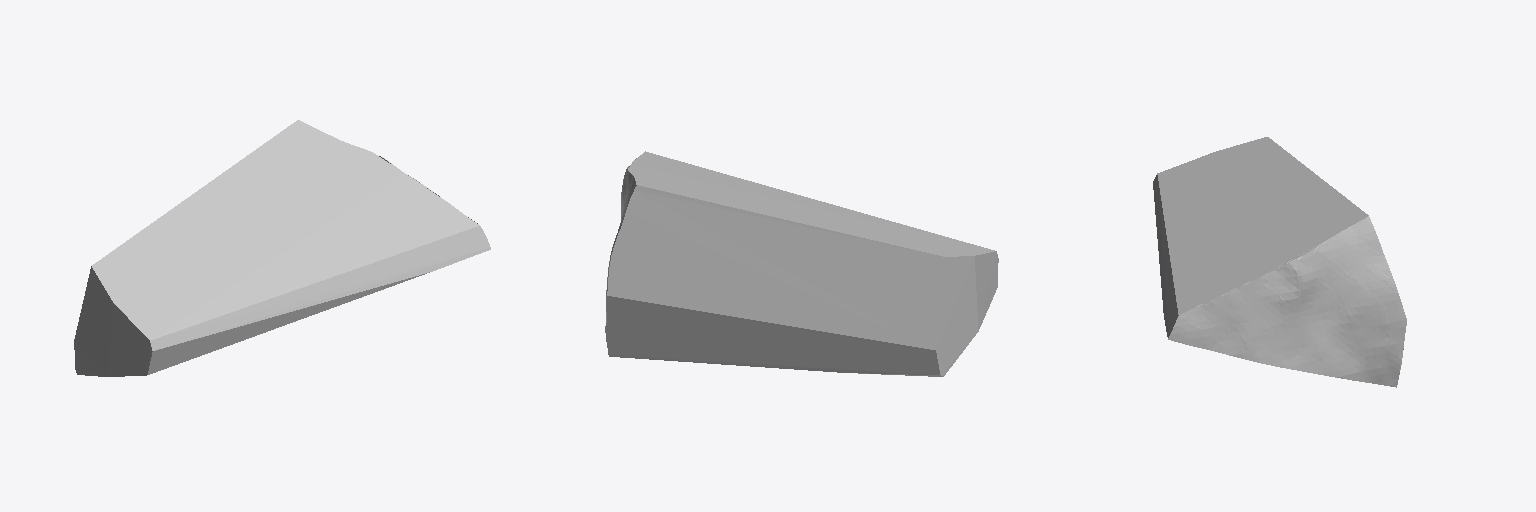
The model's file is low_cell_046.obj.
3 renders of one model, left to right at view 1: azimuth 30°, elevation 25°; view 2: azimuth 150°, elevation 25°; view 3: azimuth 270°, elevation 25°, orthographic.
Visible parts, largest first — view 1: low_cell.046_low_cell.045; view 2: low_cell.046_low_cell.045; view 3: low_cell.046_low_cell.045.
Boxes of the visible parts, x1=… form: low_cell.046_low_cell.045: x1=74, y1=120, x2=490, y2=376; low_cell.046_low_cell.045: x1=605, y1=151, x2=998, y2=376; low_cell.046_low_cell.045: x1=1153, y1=137, x2=1406, y2=387.
Bounding box in the file's own units: 1.07 × 0.4688 × 0.6546.